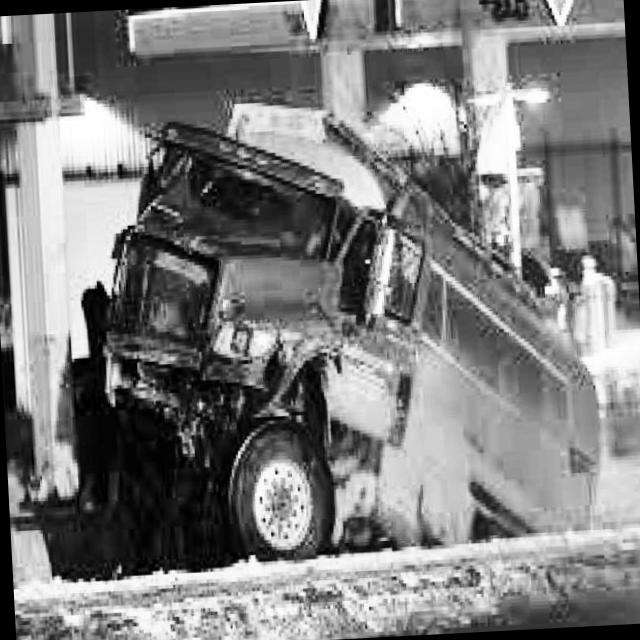Truck: (59, 83, 609, 572)
